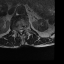CCS_normal: (19, 27, 21, 36)
LFS_severe_stenosis: (23, 27, 25, 32)
LLS_normal: (21, 27, 23, 33)
RFS_severe_stenosis: (15, 27, 18, 33)
RLS_stenosis: (18, 28, 20, 34)
